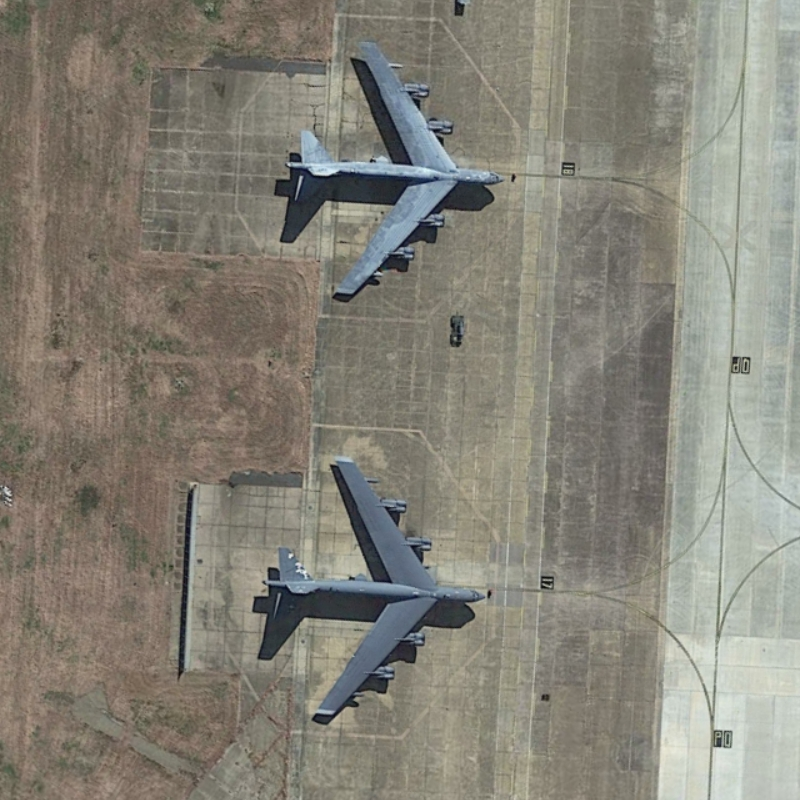A8: (257, 450, 490, 722), (278, 38, 507, 309)
